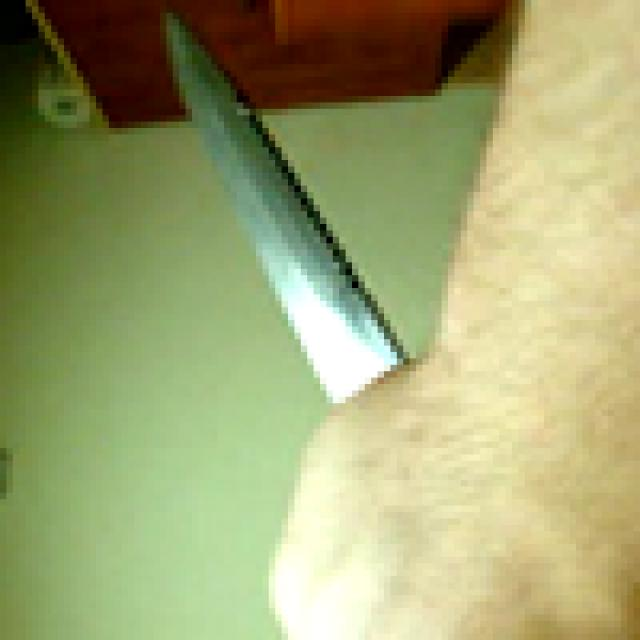Knife: (160, 0, 429, 422)
